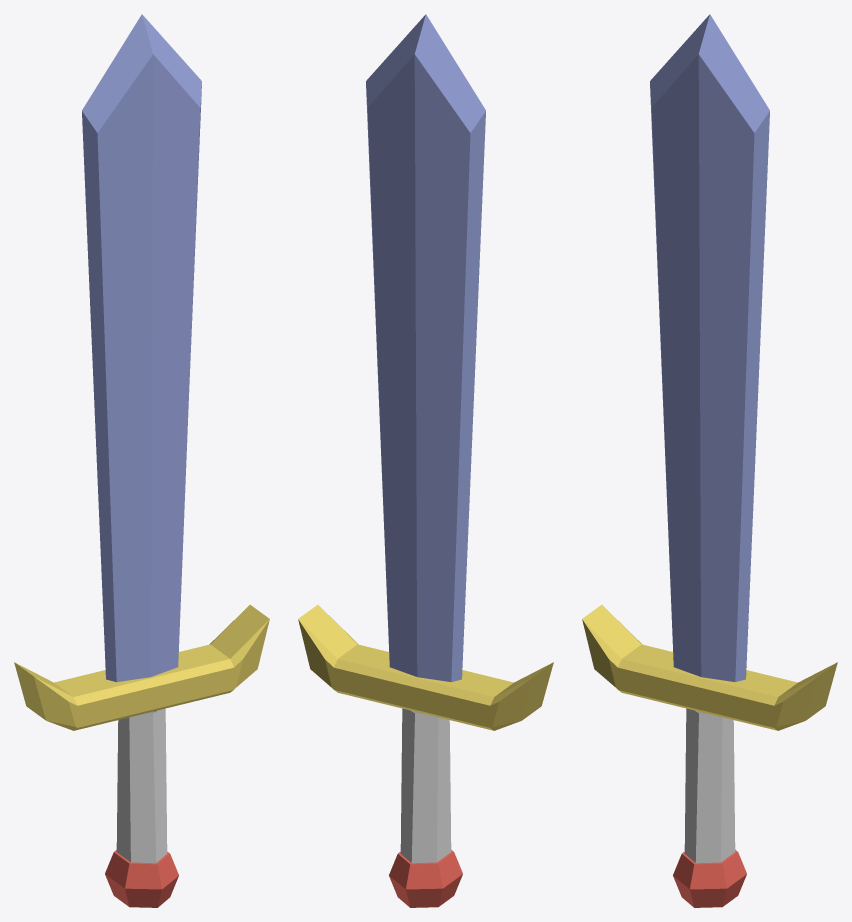
The model's file is BS_KnightSword.fbx.
3 renders of one model, left to right at view 1: azimuth 30°, elevation 25°; view 2: azimuth 150°, elevation 25°; view 3: azimuth 330°, elevation 25°, orthographic.
Parts seen in each view (by area): view 1: Cube.005; view 2: Cube.005; view 3: Cube.005.
Part boxes in pixels (<box>): Cube.005: <box>14,14,269,907</box>; Cube.005: <box>298,14,553,907</box>; Cube.005: <box>582,14,837,907</box>.
Bounding box in the file's own units: 227 × 812 × 67.34.
